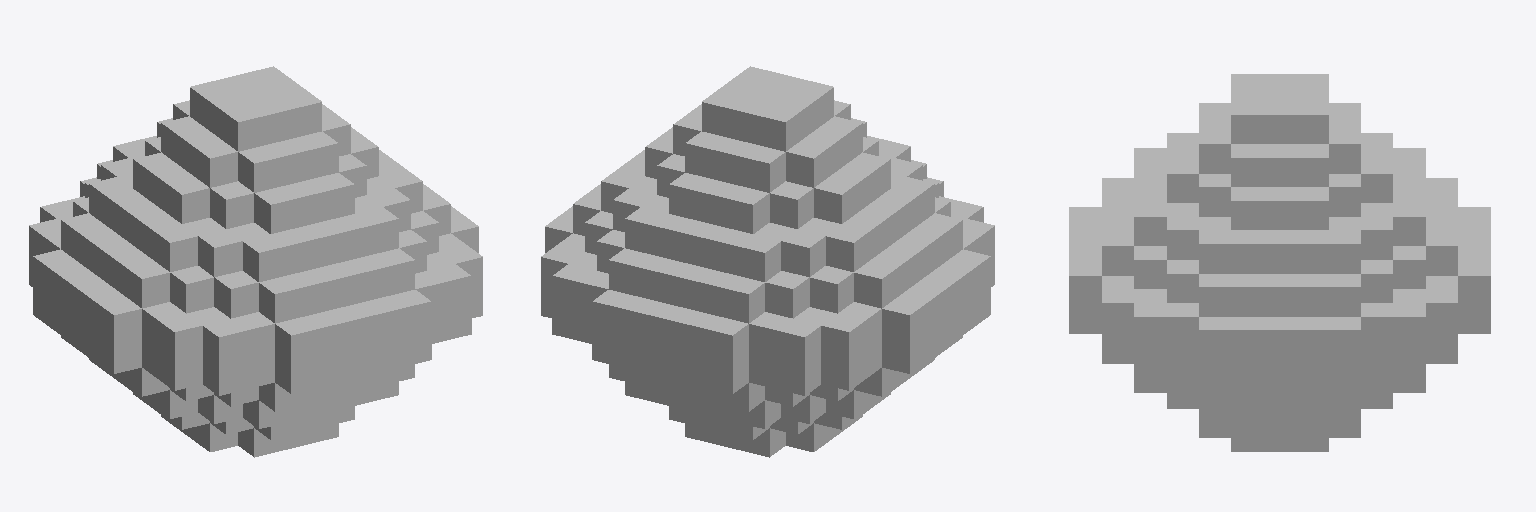
Rendered from Arbusto.obj.
The picture shows the model from 3 angles: view 1: azimuth 30°, elevation 25°; view 2: azimuth 150°, elevation 25°; view 3: azimuth 270°, elevation 25°; orthographic projection.
Parts seen in each view (by area): view 1: object 1; view 2: object 1; view 3: object 1.
Part boxes in pixels (x1,y1,x2,y2): object 1: (29, 66, 482, 457); object 1: (541, 66, 994, 457); object 1: (1069, 74, 1490, 451).
Size of the model in its own units: 1.3 by 1.1 by 1.3.